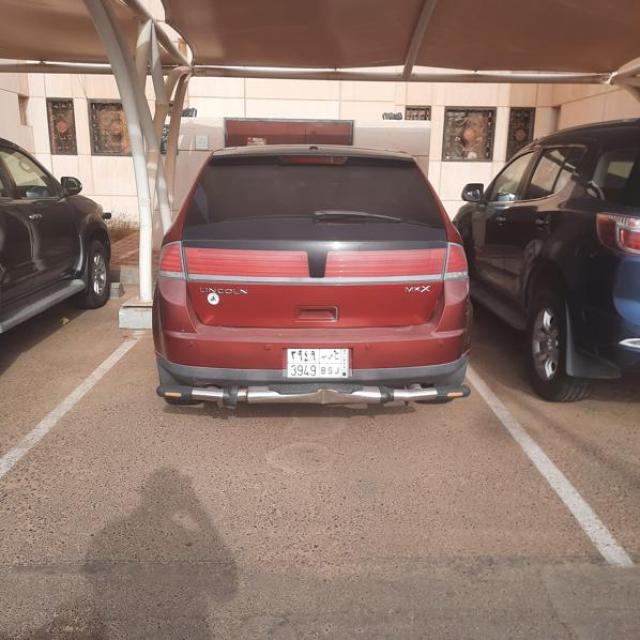license_plate: (286, 348, 348, 379)
